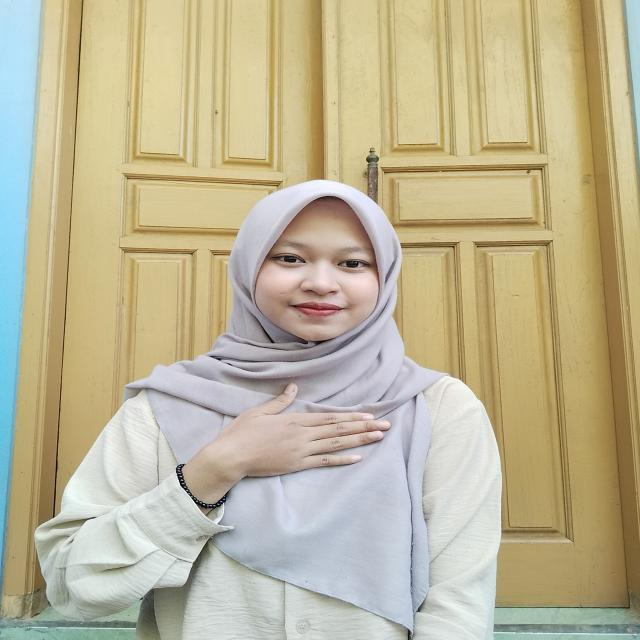tolong: (109, 379, 398, 498)
